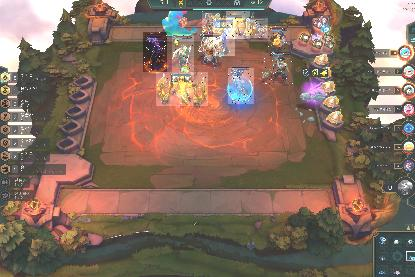1_bard: (268, 26, 290, 52)
1_idas: (156, 72, 208, 106), (226, 11, 250, 39)
1_jayce: (228, 68, 254, 104), (202, 11, 220, 33)
1_yasuo: (143, 32, 167, 72)
2_jax: (172, 34, 194, 78)
2_nasus: (262, 50, 294, 84)
2_twitch: (246, 18, 268, 38)
2_volibear: (199, 32, 225, 70)
2_yone: (213, 18, 235, 56)
